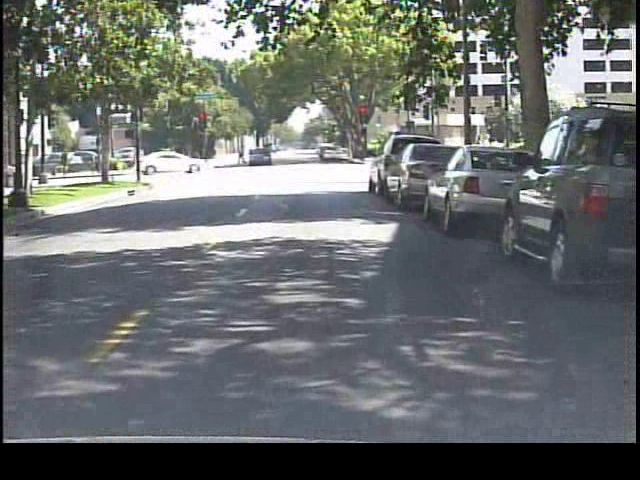person: (235, 141, 249, 167)
